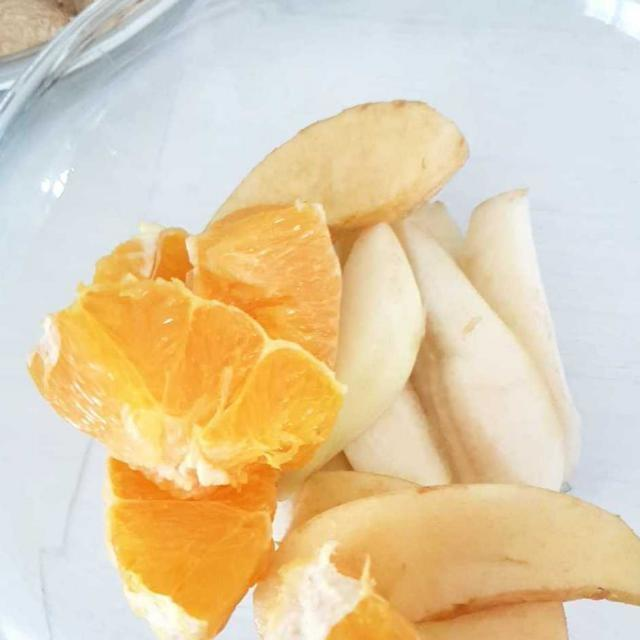apple: (193, 98, 634, 629)
orange: (12, 202, 433, 637)
